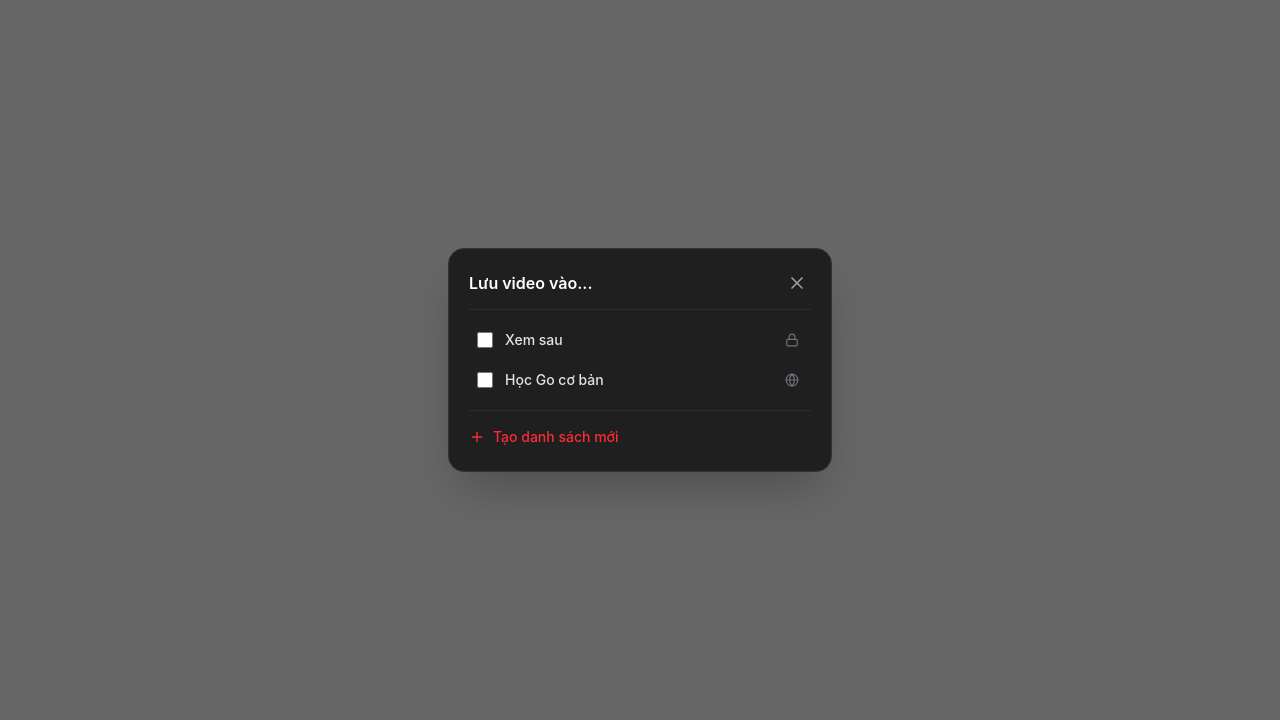
it: PL1-web: Playlists & Watch Later Unit Tests (ADR-024) › 1. Save Dialog › shows toast and rolls back on 409 PLAYLIST_FULL
The width and height of the screenshot is (1280, 720).
Step 1. Click the checkbox with test id "playlist-checkbox-pl-go" → (485, 380), box [477,372,493,388]
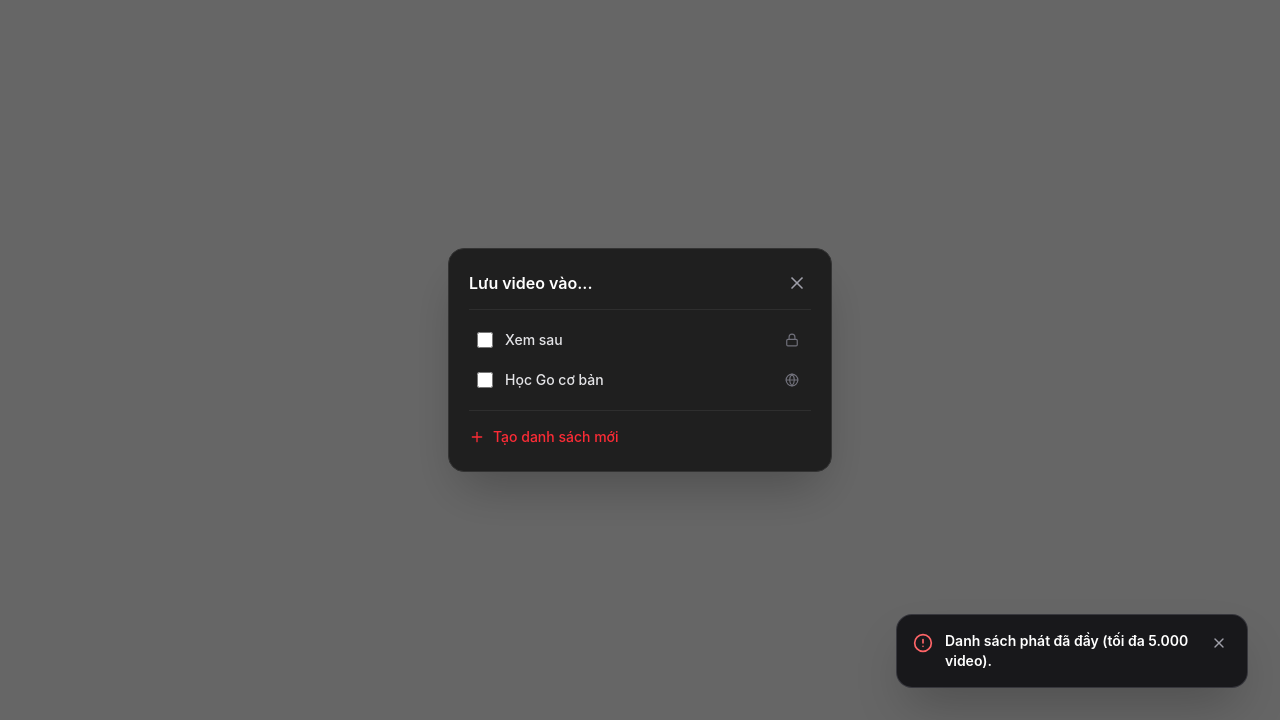
Result: the text "Danh sách phát đã đầy (tối đa 5.000 video)." is shown at [945,631,1195,671]
